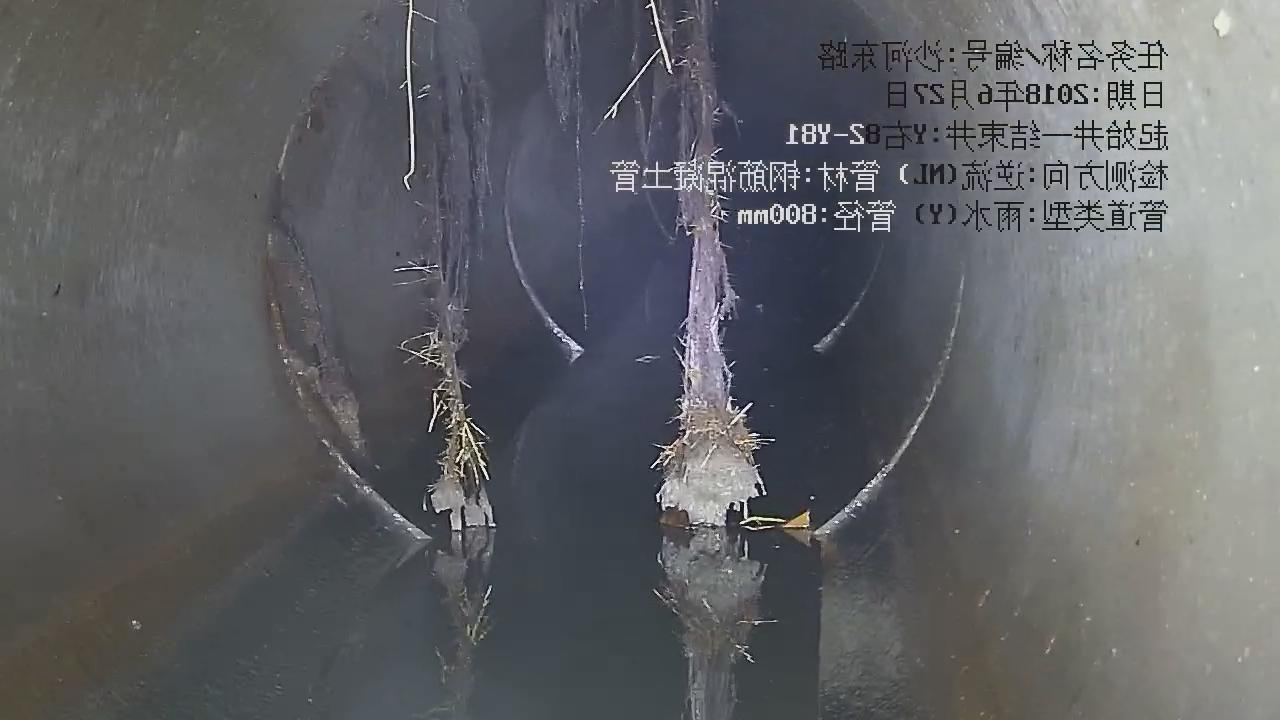CKTJ: (256, 5, 432, 547), (797, 255, 978, 548)
SG: (601, 0, 763, 528), (400, 0, 495, 530), (544, 0, 581, 135)
